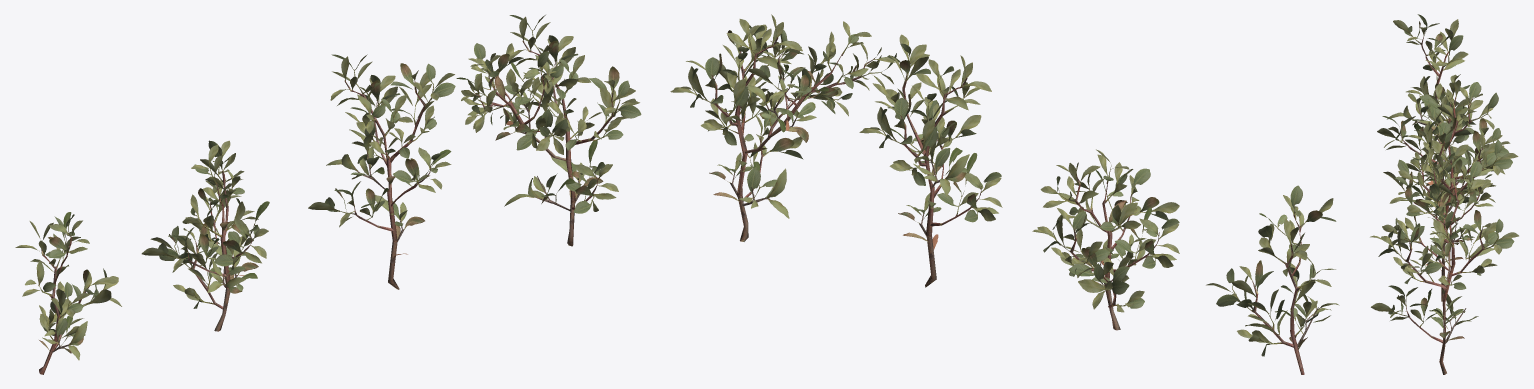
The model's file is shrub_04_LOD1.fbx.
3 views of the same model, side by side, from view 1: azimuth 30°, elevation 25°; view 2: azimuth 150°, elevation 25°; view 3: azimuth 270°, elevation 25° (orthographic). The views are drawn at different scales.
Visible parts, largest first — view 1: shrub_04.001; view 2: shrub_04.001; view 3: shrub_04.001.
Boxes of the visible parts, x1,y1,x2,y2 form: shrub_04.001: [15, 15, 641, 374]; shrub_04.001: [670, 14, 1339, 374]; shrub_04.001: [1370, 14, 1518, 374].
Size of the model in its own units: 0.583 by 0.219 by 0.146.
Materials: 1 (1 with a texture image).
